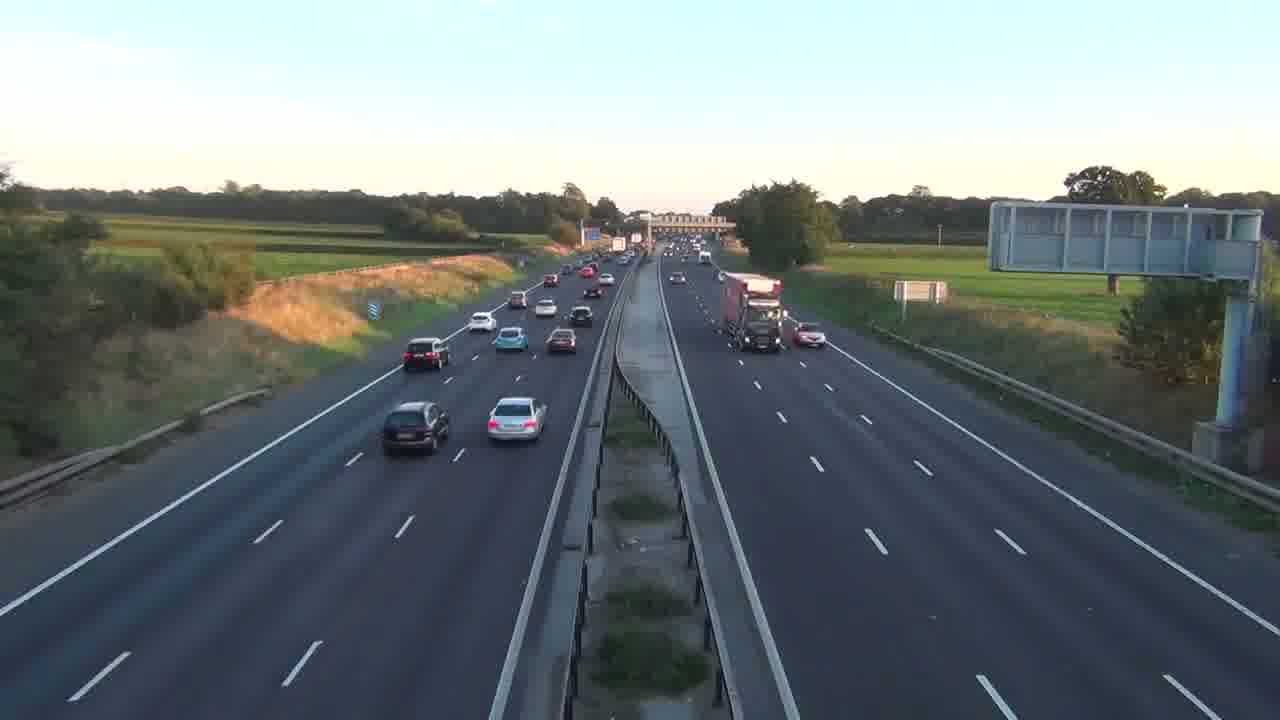car: (381, 400, 450, 456), (485, 396, 548, 445), (544, 327, 578, 355), (792, 323, 826, 349), (494, 327, 528, 351), (467, 311, 498, 333), (568, 304, 593, 326), (532, 298, 558, 319)
truck: (719, 271, 785, 351)
